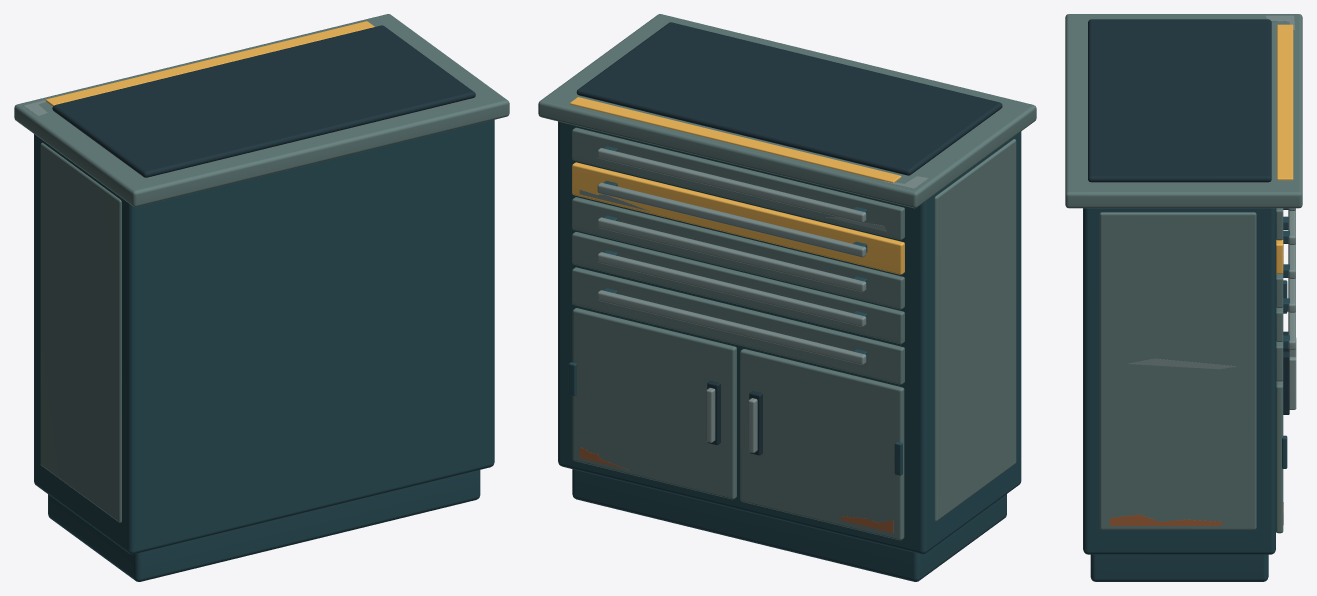
The model's file is d08_repair_furniture_01.glb.
The picture shows the model from 3 angles, left to right: view 1: azimuth 30°, elevation 25°; view 2: azimuth 150°, elevation 25°; view 3: azimuth 270°, elevation 25°; orthographic projection. The views are drawn at different scales.
Parts seen in each view (by area): view 1: D08RepairFurniture01_Mesh; view 2: D08RepairFurniture01_Mesh; view 3: D08RepairFurniture01_Mesh.
Boxes of the visible parts, box(x1,y1,x2,y2) form: D08RepairFurniture01_Mesh: box(14, 14, 509, 581); D08RepairFurniture01_Mesh: box(538, 14, 1036, 581); D08RepairFurniture01_Mesh: box(1065, 14, 1302, 581).
Bounding box in the file's own units: 1.44 × 1.5 × 0.8.
